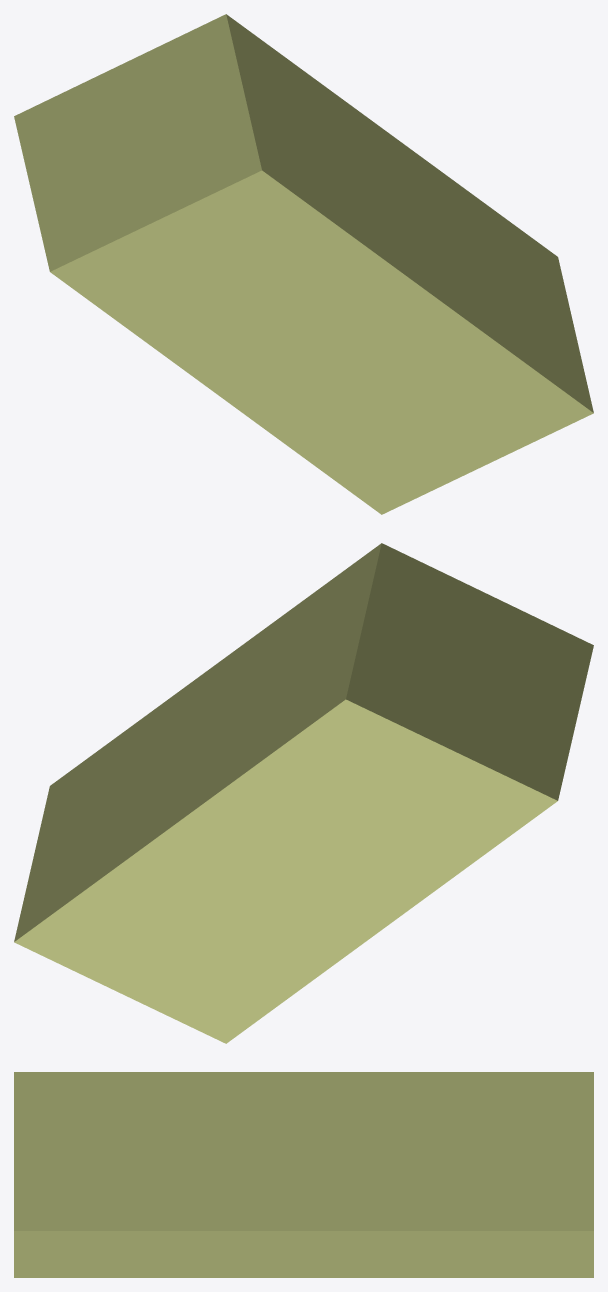
3 renders of one model, top to bottom at view 1: azimuth 30°, elevation 25°; view 2: azimuth 150°, elevation 25°; view 3: azimuth 270°, elevation 25°, orthographic. The views are drawn at different scales.
Visible parts, largest first — view 1: 0_1_3_2_2_2_0_2_1_2_2; view 2: 0_1_3_2_2_2_0_2_1_2_2; view 3: 0_1_3_2_2_2_0_2_1_2_2.
Boxes of the visible parts, x1,y1,x2,y2 form: 0_1_3_2_2_2_0_2_1_2_2: (14, 14, 593, 514); 0_1_3_2_2_2_0_2_1_2_2: (14, 543, 593, 1043); 0_1_3_2_2_2_0_2_1_2_2: (14, 1072, 593, 1277).
Size of the model in its own units: 3.88 by 3.22 by 9.
